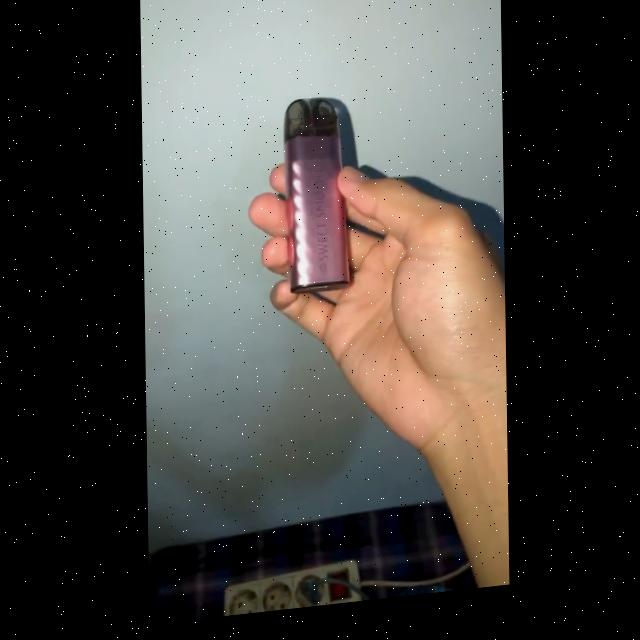vape: (280, 100, 352, 302)
